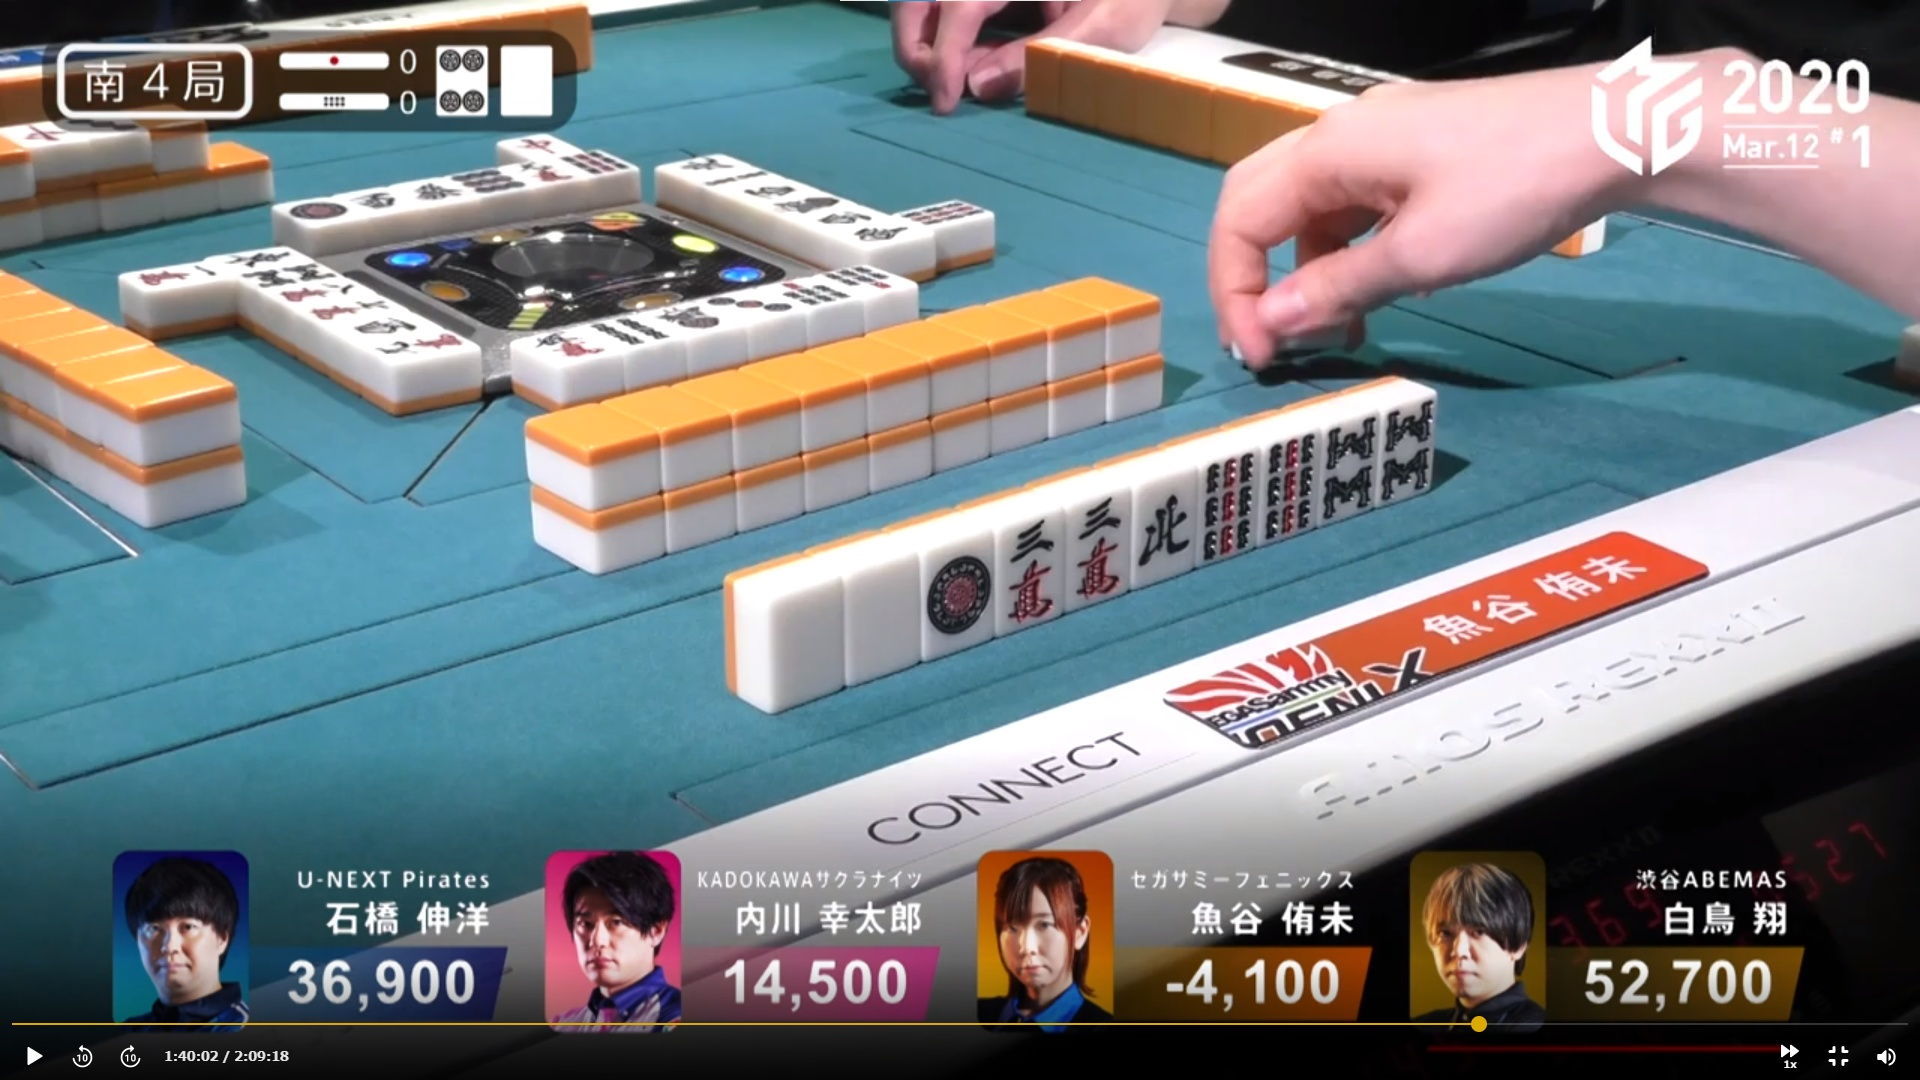1p: (927, 506, 994, 651)
3m: (990, 484, 1054, 644), (1058, 465, 1129, 607)
8s: (1374, 371, 1433, 505), (1315, 394, 1375, 524)
9s: (1188, 429, 1254, 570), (1259, 405, 1319, 542)
haku: (732, 559, 841, 702), (837, 527, 924, 676)
hand_nan_4: (47, 32, 269, 124)
pei: (1130, 446, 1189, 584)
round_0: (268, 83, 422, 113)
team_segasammy: (1153, 618, 1458, 753)
